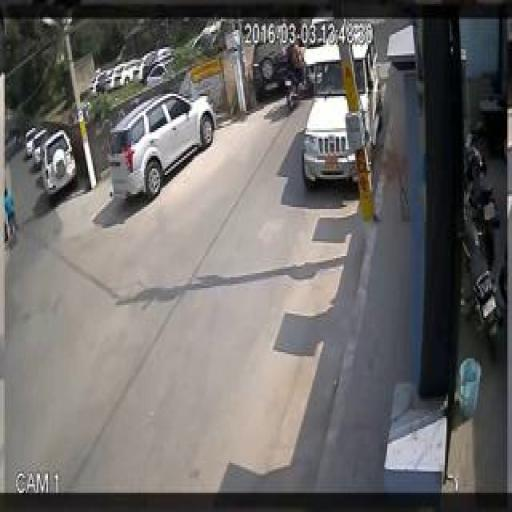Car: (109, 95, 219, 198), (43, 133, 77, 197), (308, 18, 338, 63), (30, 133, 47, 172), (118, 62, 142, 86), (102, 70, 122, 91), (24, 127, 36, 157)
Major Accident: (278, 17, 338, 102)
Motor: (280, 32, 312, 106)
